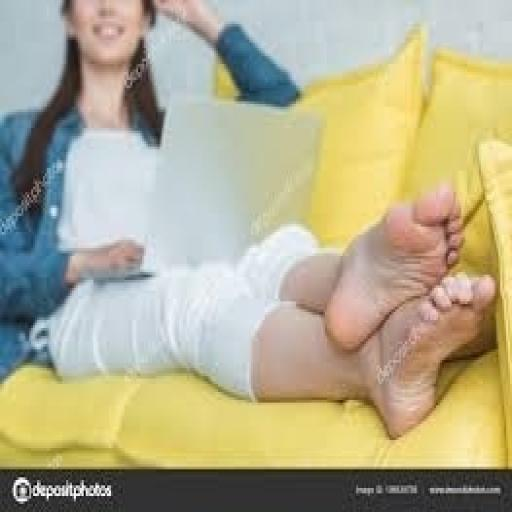using_laptop: (67, 77, 341, 373)
